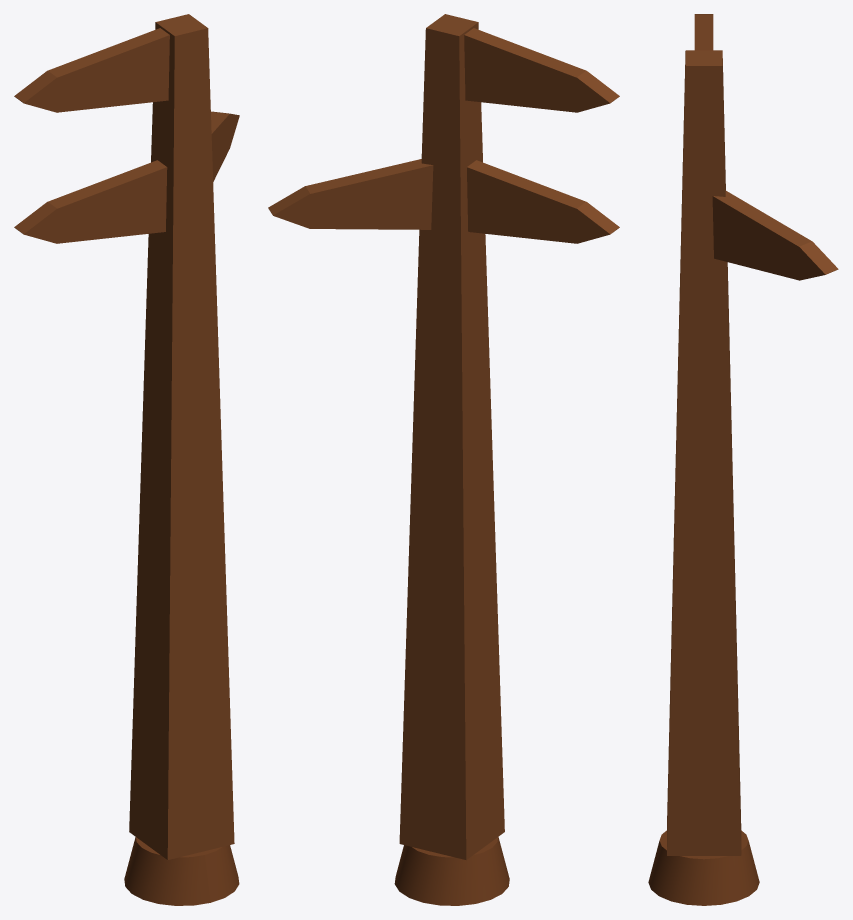
File: Finger Signs.glb
3 views of the same model, side by side, from view 1: azimuth 30°, elevation 25°; view 2: azimuth 150°, elevation 25°; view 3: azimuth 270°, elevation 25° (orthographic). The views are drawn at different scales.
Visible parts, largest first — view 1: SquaredPole, Plank (×3), RoundBase, PlankPoint (×2); view 2: SquaredPole, Plank (×3), RoundBase, PlankPoint (×3); view 3: SquaredPole, Plank (×2), RoundBase, PlankPoint.
Part boxes in pixels (x1,y1,x2,y2): SquaredPole: (129, 14, 234, 859); Plank (×3): (48, 28, 229, 243); RoundBase: (124, 837, 239, 905); PlankPoint (×2): (14, 70, 57, 243); SquaredPole: (399, 14, 504, 859); Plank (×3): (305, 28, 585, 243); RoundBase: (394, 837, 509, 905); PlankPoint (×3): (268, 70, 619, 243); SquaredPole: (667, 50, 741, 855); Plank (×2): (694, 14, 811, 280); RoundBase: (648, 830, 759, 905); PlankPoint: (799, 241, 838, 280).
Bounding box in the file's own units: 0.8499 × 2.45 × 0.5124.
